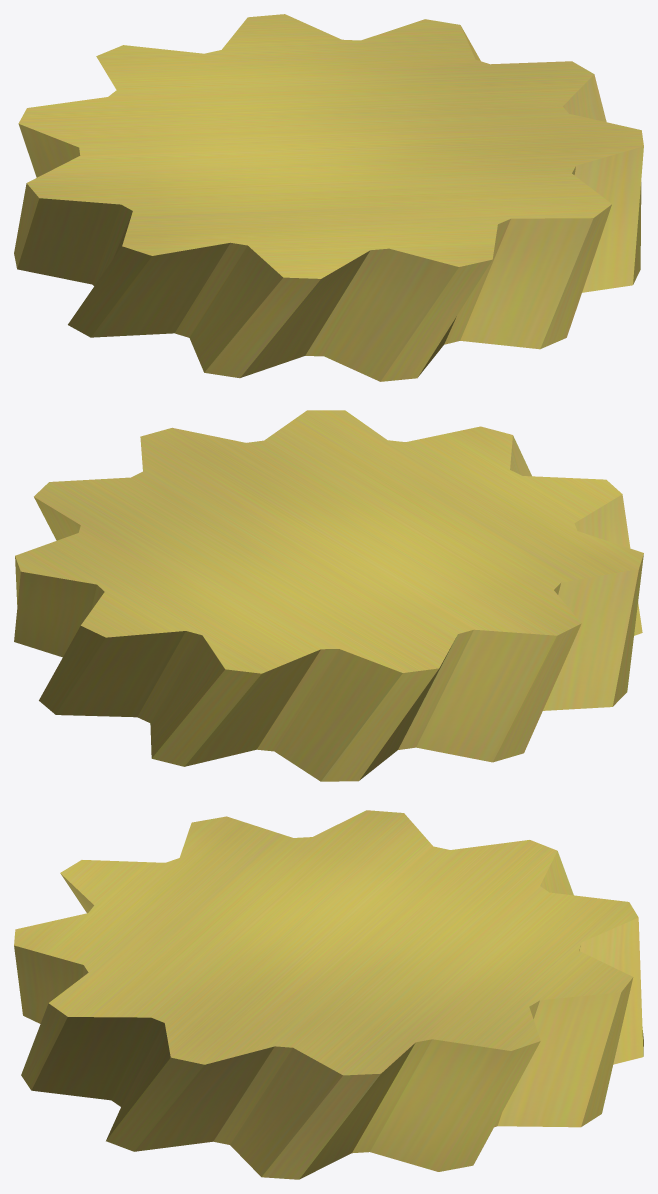
Rendered from CogSpiralOpp011.fbx.
3 views of the same model, one above another, from view 1: azimuth 30°, elevation 25°; view 2: azimuth 150°, elevation 25°; view 3: azimuth 270°, elevation 25° (orthographic).
Parts seen in each view (by area): view 1: CogSpiralOpp011; view 2: CogSpiralOpp011; view 3: CogSpiralOpp011.
Boxes of the visible parts, bbox=[...] form: CogSpiralOpp011: bbox=[14, 14, 643, 381]; CogSpiralOpp011: bbox=[14, 410, 643, 781]; CogSpiralOpp011: bbox=[14, 810, 643, 1179].
Size of the model in its own units: 107 by 19.69 by 107.
